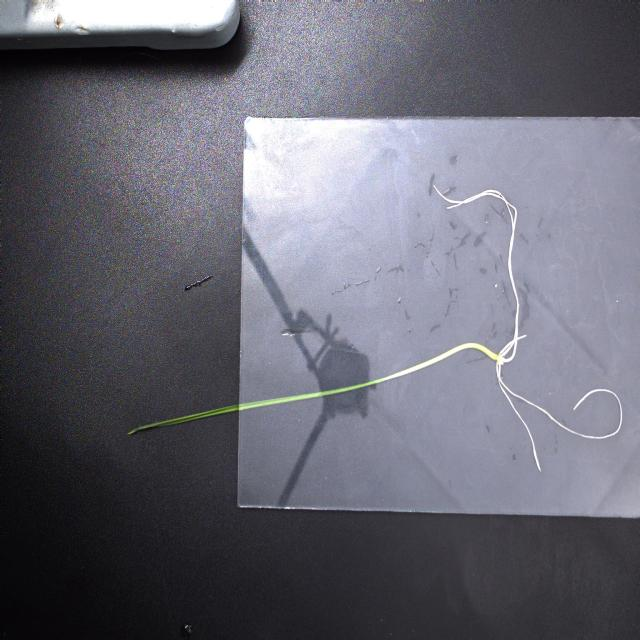leaf: (124, 376, 388, 436)
root: (430, 182, 624, 477)
stem: (385, 343, 503, 382)
